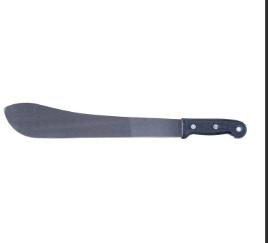MACHETTE: (2, 99, 249, 156)
